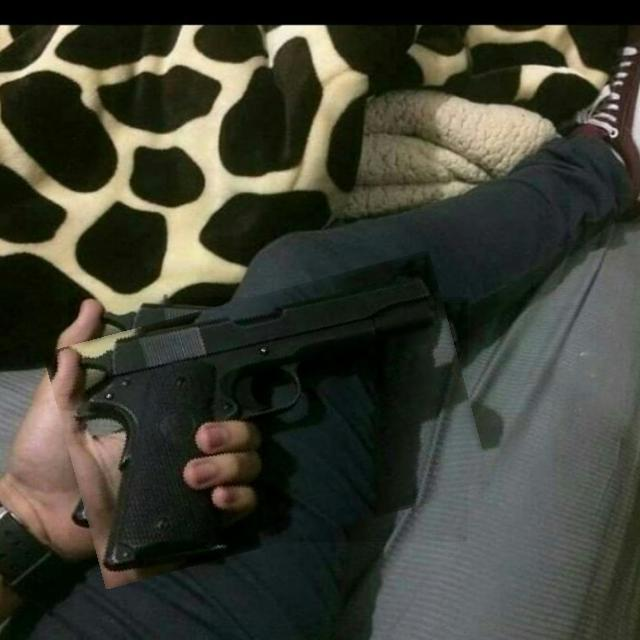rifle: (1, 34, 637, 637), (0, 261, 468, 640), (0, 356, 295, 598), (229, 133, 632, 309), (62, 314, 314, 576), (81, 267, 447, 408), (570, 42, 639, 201), (36, 291, 114, 413)
